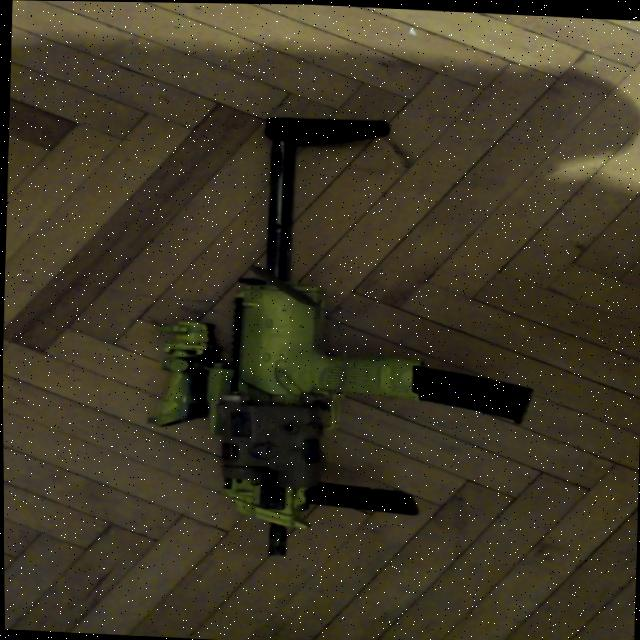firearm: (146, 108, 543, 568)
